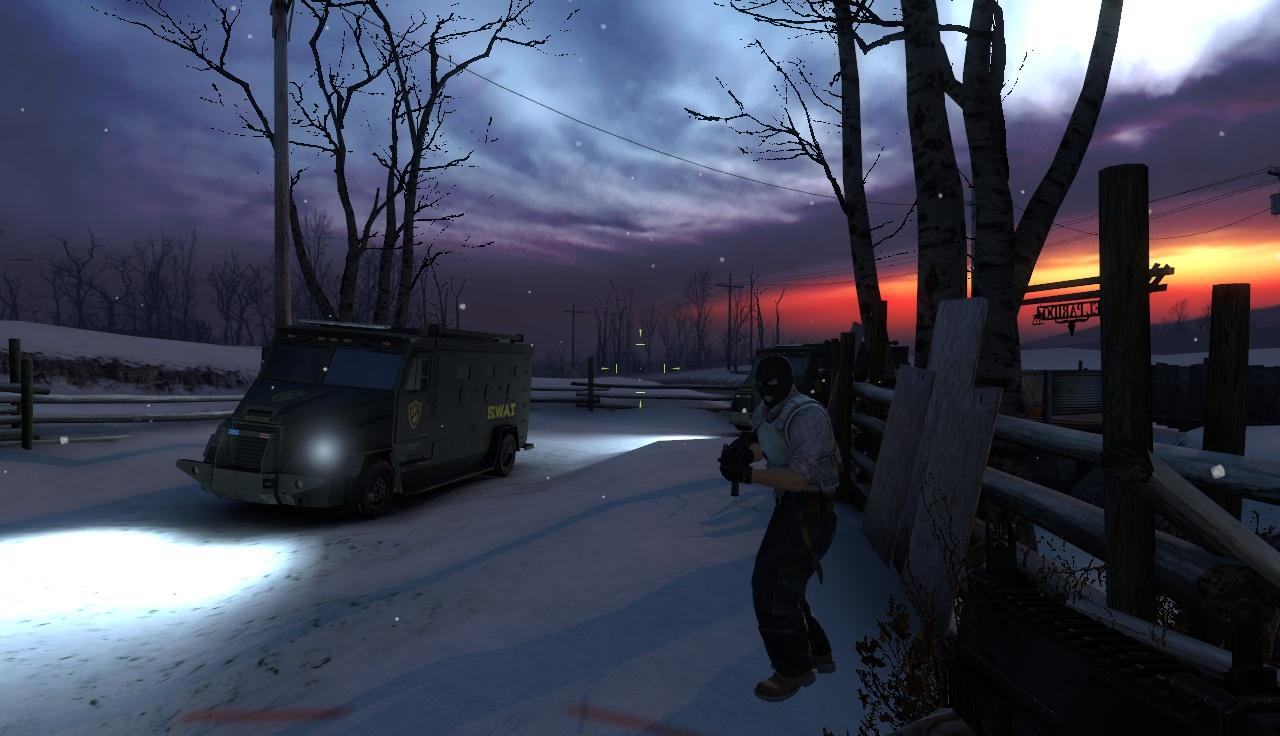tt: (736, 357, 841, 698)
tthead: (754, 357, 793, 405)
